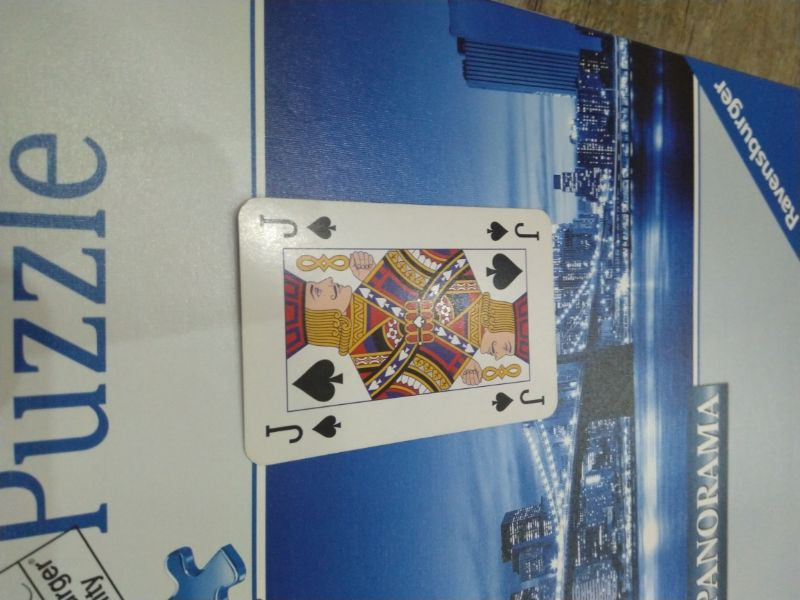Js: (254, 208, 341, 242), (261, 414, 346, 446), (483, 216, 543, 245), (488, 387, 549, 413)
